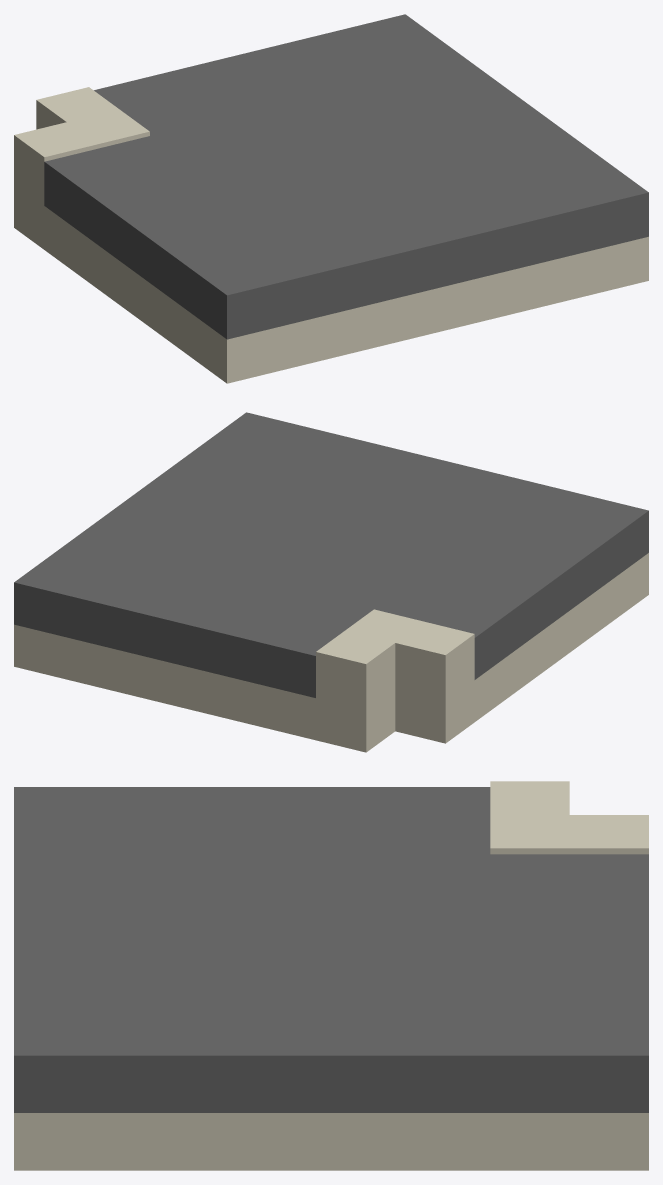
Rendered from roadTile_113.fbx.
3 renders of one model, top to bottom at view 1: azimuth 30°, elevation 25°; view 2: azimuth 150°, elevation 25°; view 3: azimuth 270°, elevation 25°, orthographic. The views are drawn at different scales.
Visible parts, largest first — view 1: roadTile_113; view 2: roadTile_113; view 3: roadTile_113.
Boxes of the visible parts, box(x1,y1,x2,y2) form: roadTile_113: box(14, 14, 648, 383); roadTile_113: box(14, 412, 648, 752); roadTile_113: box(14, 781, 648, 1170).
Size of the model in its own units: 118 by 24.8 by 118.
